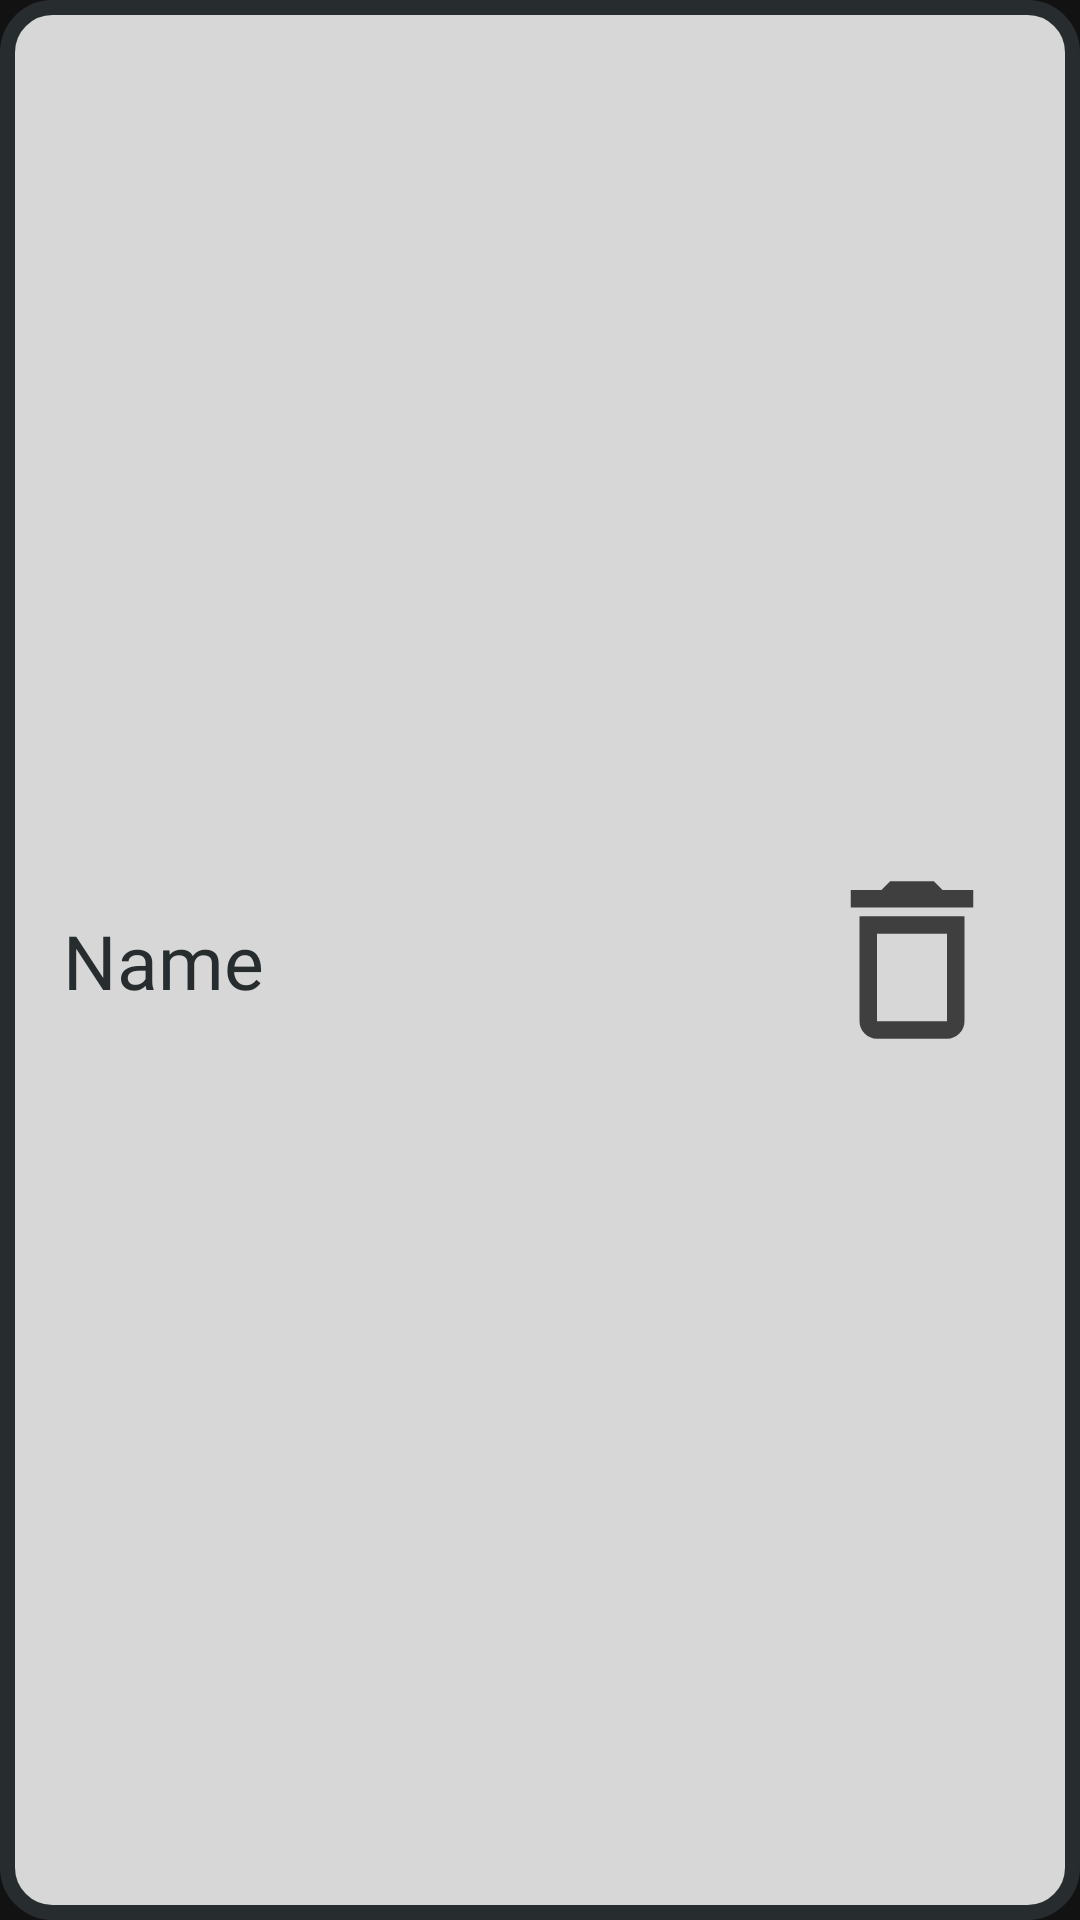

Where to tap for icons on this 1080px x 1920px app screen, as (x=x, y=y):
delete: (x=912, y=960)
